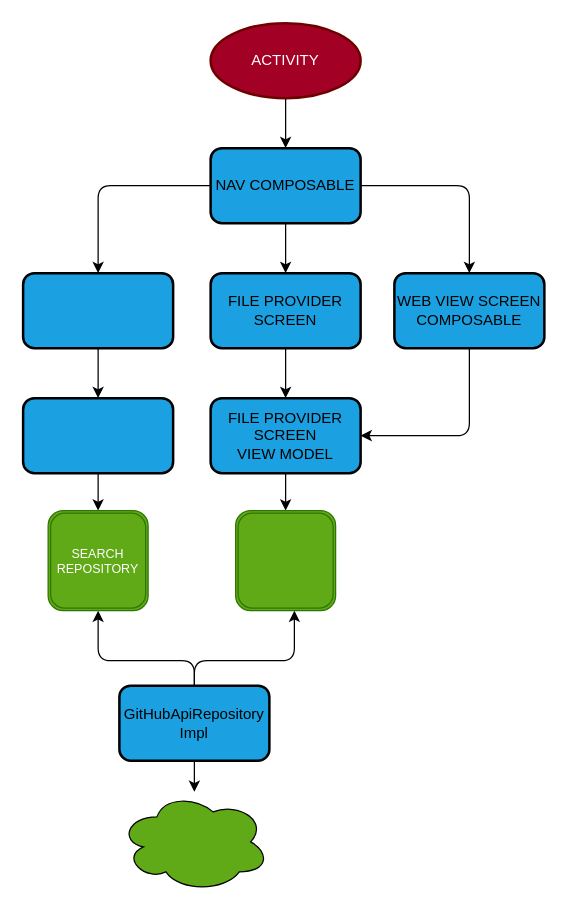
Some shapes in this 566 by 914 pixel diagram are drawn without their labels. The centre of each missing label's shape, as x and y in pixels:
"FILE PROVIDER REPOSITORY" goes at pixel 285 560.
"GitHubApi" goes at pixel 193 841.
"SEARCH SCREEN" goes at pixel 97 310.
"SEARCH VIEW MODEL" goes at pixel 97 435.
